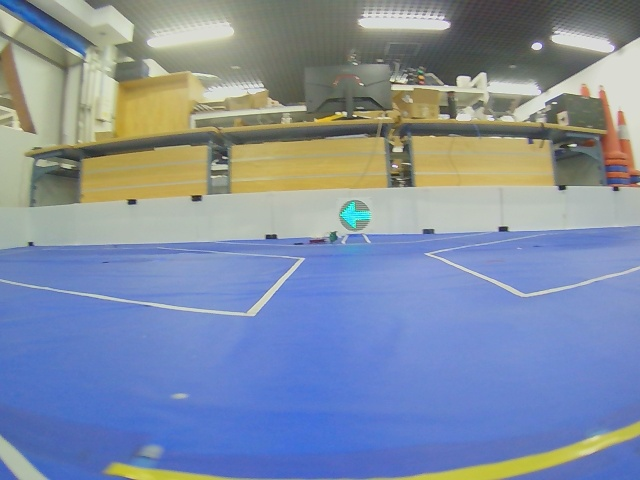left_green: (339, 200, 372, 231)
